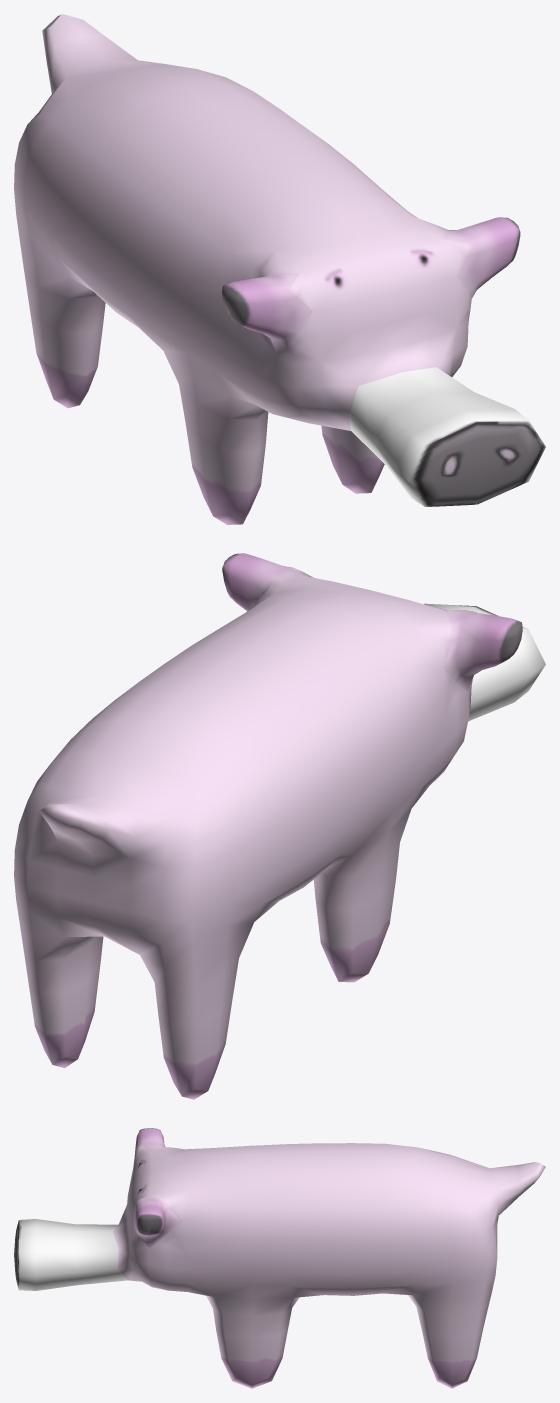
Rendered from Enemy8.fbx.
3 views of the same model, one above another, from view 1: azimuth 30°, elevation 25°; view 2: azimuth 150°, elevation 25°; view 3: azimuth 270°, elevation 25° (orthographic). The views are drawn at different scales.
Visible parts, largest first — view 1: pCube1; view 2: pCube1; view 3: pCube1.
Part boxes in pixels (x1,y1,x2,y2): pCube1: [14, 14, 545, 524]; pCube1: [14, 553, 545, 1099]; pCube1: [14, 1128, 545, 1388].
Size of the model in its own units: 3.14 by 3.58 by 7.93.
1 material, 1 textured.
